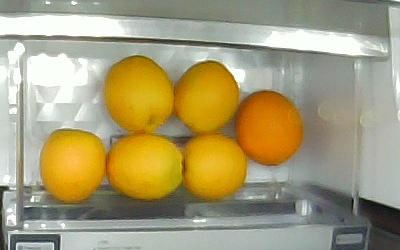orange: (104, 55, 175, 133), (235, 90, 303, 165), (106, 134, 183, 200), (39, 128, 106, 203), (174, 59, 239, 133), (182, 133, 247, 199)
